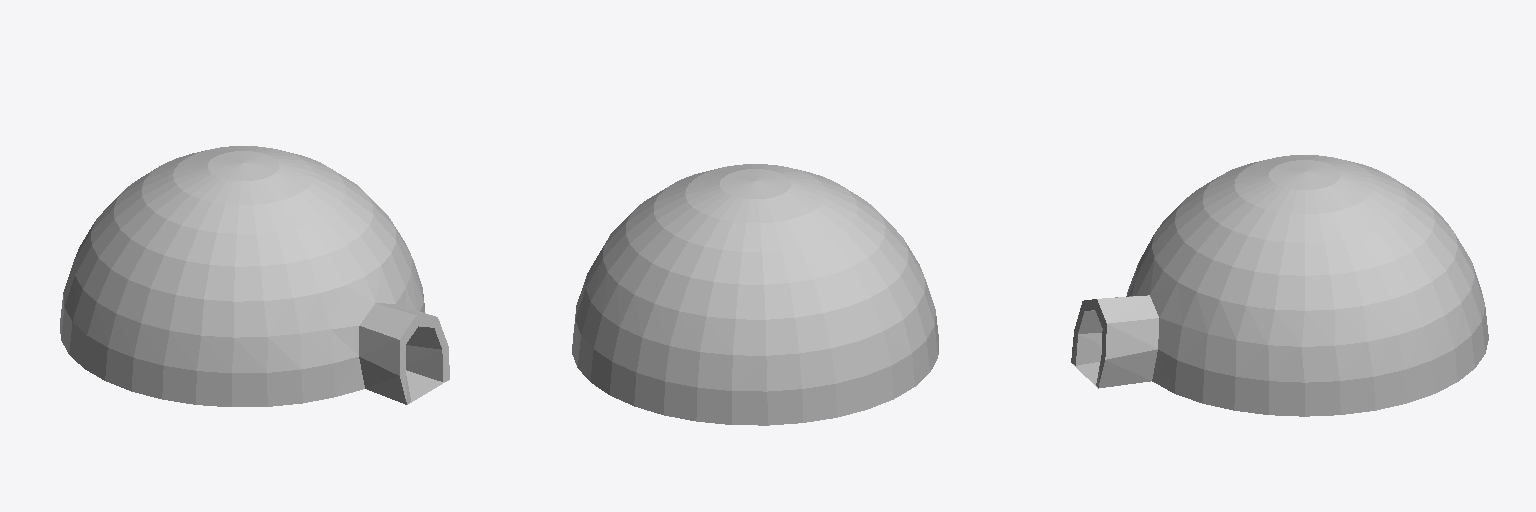
File: igloo.obj
The picture shows the model from 3 angles: view 1: azimuth 30°, elevation 25°; view 2: azimuth 150°, elevation 25°; view 3: azimuth 270°, elevation 25°; orthographic projection.
Parts seen in each view (by area): view 1: Sphere; view 2: Sphere; view 3: Sphere.
Boxes of the visible parts, x1,y1,x2,y2 form: Sphere: [60, 146, 449, 406]; Sphere: [572, 164, 938, 425]; Sphere: [1071, 155, 1488, 416].
Size of the model in its own units: 2 by 1.01 by 2.27.